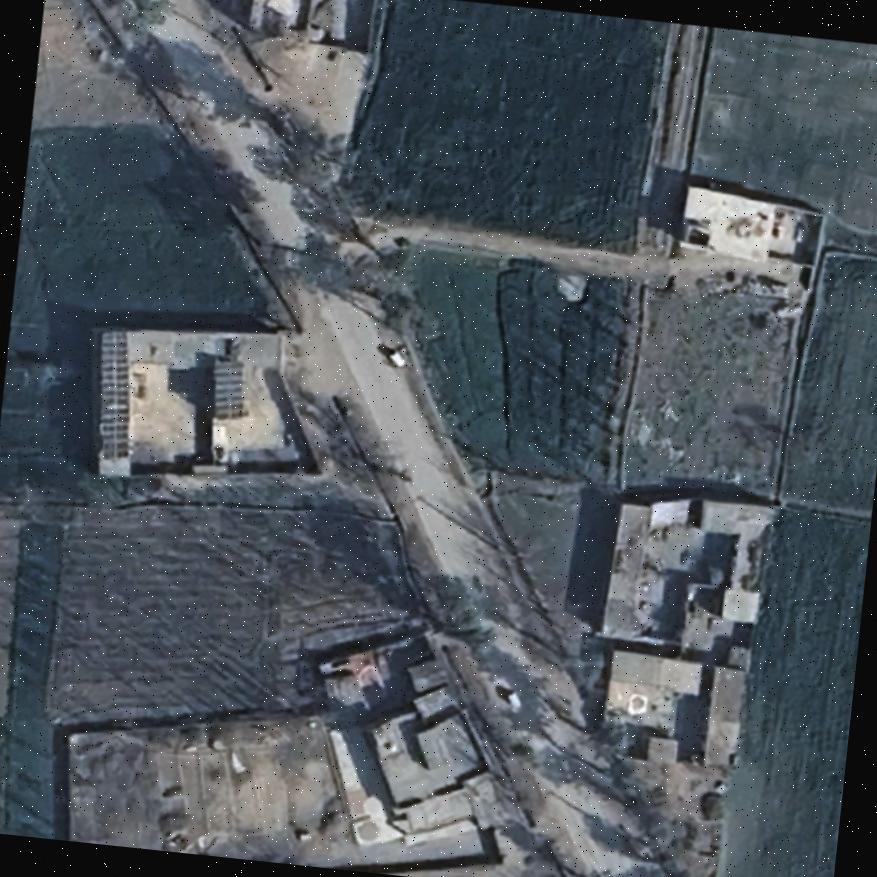Solarpanel: (95, 328, 131, 460), (211, 354, 245, 419)
